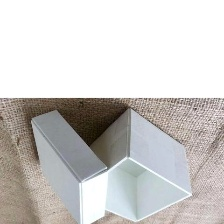book: (75, 105, 195, 223), (25, 106, 112, 224)
